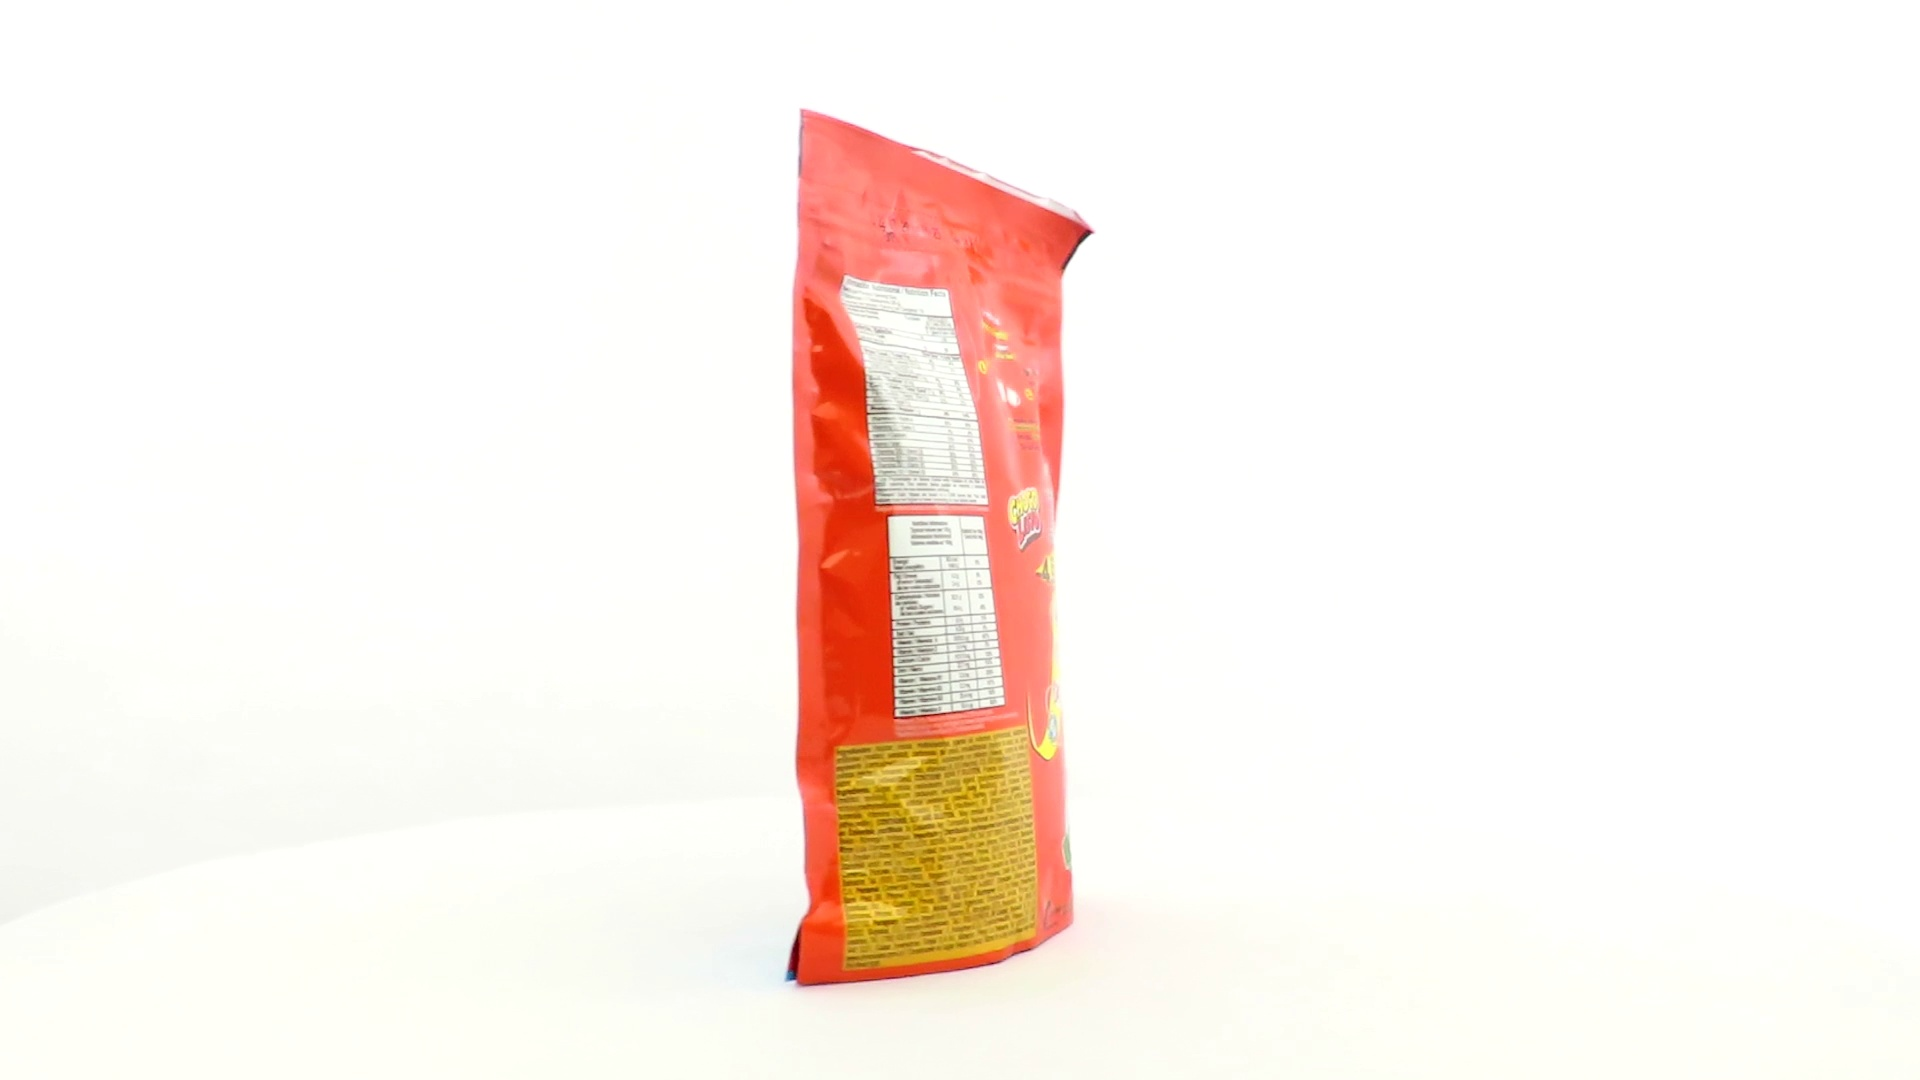COL0170104DYP20000: (779, 104, 1100, 993)
